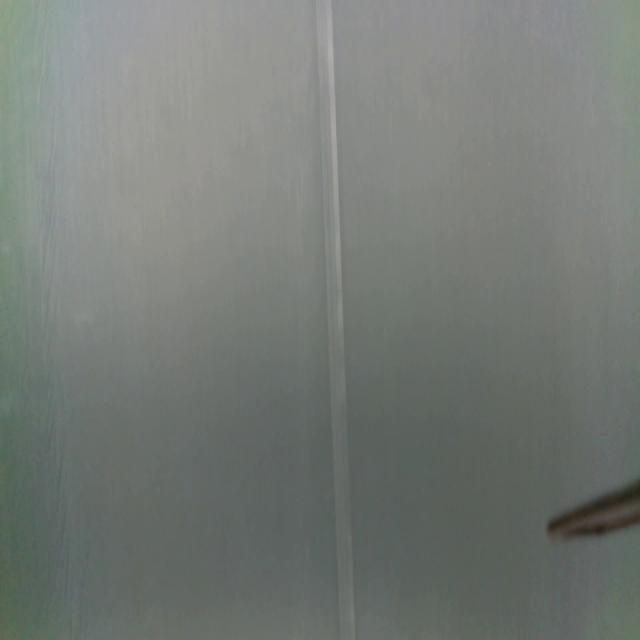crease: (315, 0, 355, 640)
